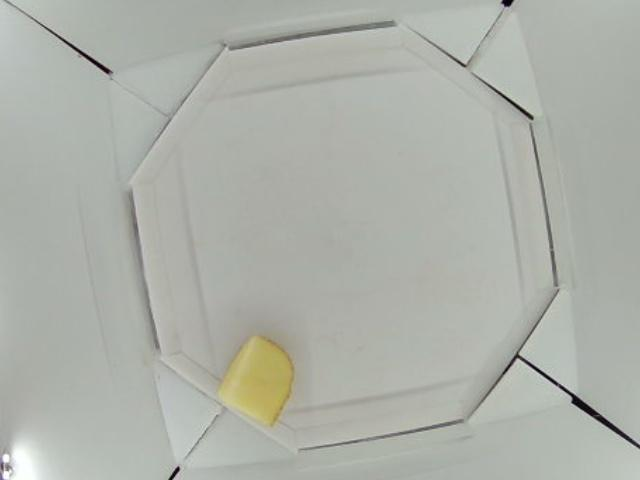Potato: (216, 337, 296, 424)
